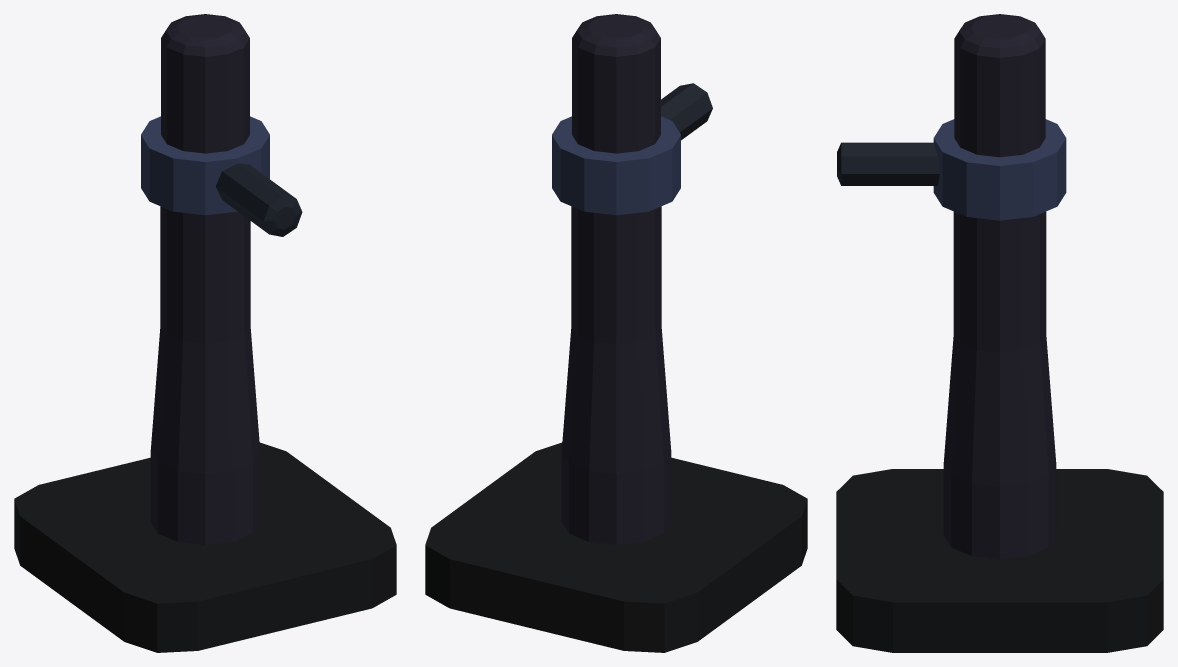
The model's file is BASE VENTILADOR.fbx.
The picture shows the model from 3 angles, left to right: view 1: azimuth 30°, elevation 25°; view 2: azimuth 150°, elevation 25°; view 3: azimuth 270°, elevation 25°; orthographic projection. The views are drawn at different scales.
Visible parts, largest first — view 1: Cube; view 2: Cube; view 3: Cube.
Boxes of the visible parts, x1,y1,x2,y2 form: Cube: (14, 14, 396, 652); Cube: (425, 14, 807, 652); Cube: (836, 14, 1163, 652).
Bounding box in the file's own units: 424 × 829 × 440.
